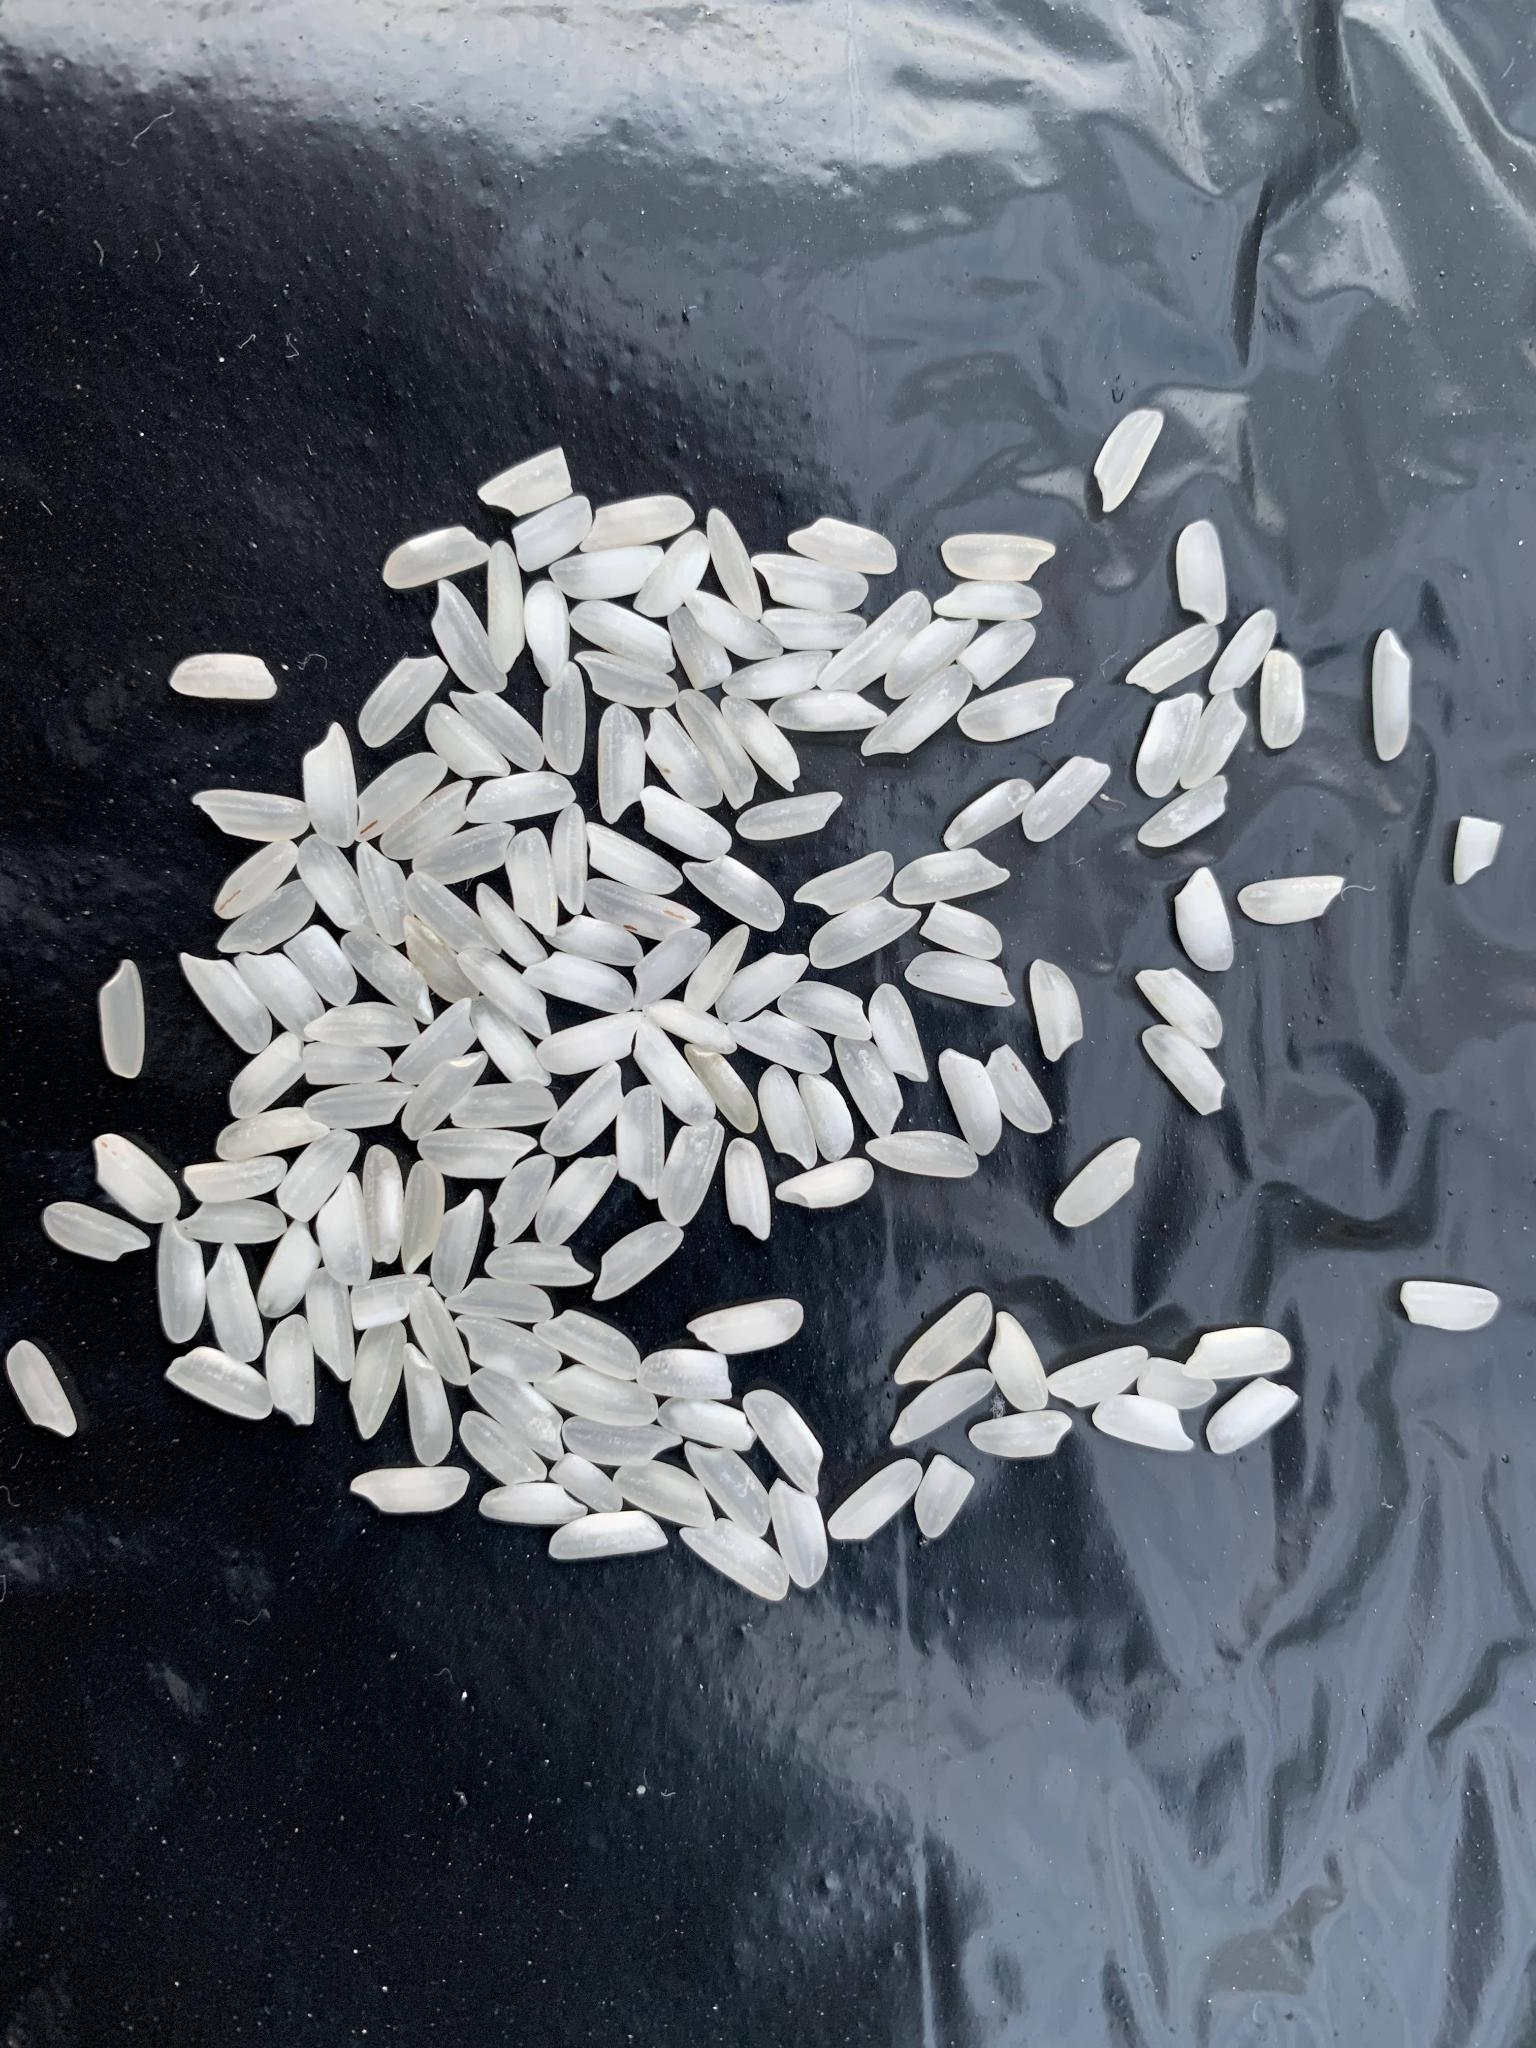rice: (816, 590, 931, 692), (862, 666, 971, 756), (678, 689, 755, 810), (181, 951, 273, 1053), (470, 1367, 566, 1463), (340, 930, 436, 1024), (457, 948, 552, 1042), (895, 1293, 992, 1385), (432, 581, 508, 697), (682, 1519, 787, 1603), (684, 1440, 771, 1538), (639, 1016, 716, 1126), (744, 1390, 823, 1496), (808, 897, 921, 971), (355, 751, 447, 842), (360, 655, 449, 748), (889, 1369, 995, 1447), (239, 951, 328, 1043), (682, 855, 786, 932), (828, 1458, 923, 1542), (542, 1061, 624, 1158), (407, 874, 503, 956), (449, 690, 545, 772), (94, 1134, 181, 1224), (402, 1051, 489, 1142), (298, 834, 376, 935), (166, 1348, 274, 1421), (884, 618, 979, 700), (647, 710, 724, 810), (1052, 1138, 1141, 1226), (570, 600, 676, 672), (534, 1155, 620, 1245), (1142, 1024, 1225, 1118), (534, 1311, 642, 1382), (1021, 756, 1110, 842), (276, 1130, 358, 1222), (381, 779, 473, 861), (591, 1222, 686, 1301), (958, 677, 1075, 742), (723, 697, 800, 793), (394, 997, 478, 1085), (586, 877, 700, 942), (216, 880, 315, 955), (473, 997, 552, 1089), (539, 1364, 657, 1426), (1205, 1377, 1300, 1453), (587, 822, 682, 898), (615, 1458, 716, 1529), (455, 1314, 561, 1382), (1134, 968, 1221, 1050), (1092, 410, 1162, 513), (686, 589, 784, 661), (1136, 772, 1229, 848), (1136, 692, 1202, 798), (658, 1119, 724, 1226), (386, 524, 492, 590), (215, 839, 300, 921), (203, 1243, 261, 1364), (1179, 687, 1247, 790), (834, 1035, 902, 1138), (641, 785, 731, 863), (6, 1338, 77, 1437), (349, 1322, 407, 1442), (523, 948, 632, 1011), (631, 929, 713, 1013), (424, 701, 511, 780), (537, 1011, 644, 1076), (937, 1048, 1000, 1156), (403, 916, 481, 1003), (579, 495, 695, 553), (42, 1201, 152, 1263), (686, 1043, 760, 1134), (707, 505, 765, 619), (715, 953, 810, 1022), (478, 448, 573, 518), (750, 555, 868, 610), (1175, 868, 1234, 976), (458, 1411, 547, 1484), (410, 1287, 473, 1388), (1128, 624, 1220, 693), (316, 1172, 373, 1285), (770, 1479, 828, 1588), (892, 848, 1008, 903), (795, 851, 894, 916), (634, 532, 708, 618), (1046, 1347, 1149, 1408), (231, 1032, 303, 1119), (307, 722, 357, 848), (689, 1300, 803, 1355), (787, 518, 895, 576), (944, 780, 1034, 850), (357, 842, 416, 947), (515, 493, 594, 572), (257, 1221, 321, 1317), (413, 824, 515, 885), (476, 884, 549, 969), (265, 1313, 318, 1429), (758, 1064, 816, 1171), (549, 547, 665, 600), (573, 651, 679, 710), (984, 1045, 1054, 1134), (403, 1342, 453, 1464), (489, 1155, 555, 1247), (870, 984, 929, 1084), (216, 1106, 328, 1159), (1091, 1395, 1196, 1451), (1208, 610, 1276, 697), (565, 1414, 682, 1464), (419, 1130, 541, 1179), (991, 1313, 1049, 1413), (549, 1511, 668, 1559), (1183, 1327, 1291, 1380), (466, 772, 574, 826), (779, 980, 873, 1042), (192, 790, 310, 839), (505, 826, 557, 935), (599, 701, 645, 822), (957, 619, 1036, 690), (284, 926, 353, 1006), (1029, 958, 1083, 1063), (431, 1188, 482, 1297), (941, 534, 1055, 582), (686, 926, 750, 1011), (736, 792, 842, 843), (657, 1397, 757, 1451), (160, 1216, 203, 1342), (1176, 521, 1228, 626), (1238, 876, 1346, 926), (100, 959, 145, 1079), (308, 1268, 355, 1382), (1400, 1279, 1501, 1332), (350, 1467, 468, 1513), (168, 653, 278, 701), (721, 650, 831, 698), (1373, 627, 1412, 763), (866, 1132, 978, 1179), (303, 1084, 415, 1130), (302, 1003, 421, 1047), (486, 540, 524, 674), (181, 1155, 287, 1203), (671, 606, 733, 689), (547, 913, 644, 964), (444, 1279, 553, 1324), (776, 1156, 874, 1206), (724, 1137, 771, 1242), (452, 1084, 560, 1129), (524, 581, 570, 689), (916, 1453, 975, 1537), (361, 1147, 403, 1263), (799, 1074, 854, 1163), (636, 1350, 733, 1400), (968, 1411, 1071, 1458), (474, 1484, 587, 1526), (921, 901, 1002, 959), (487, 1242, 594, 1285), (403, 1161, 444, 1276), (762, 606, 866, 650), (770, 692, 887, 731), (545, 663, 586, 774), (1262, 650, 1305, 751), (933, 581, 1042, 621), (1136, 1358, 1217, 1409), (552, 1455, 623, 1513), (553, 803, 587, 914), (1454, 814, 1504, 885)
